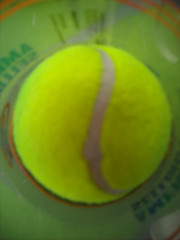tennis ball: (10, 44, 172, 205)
